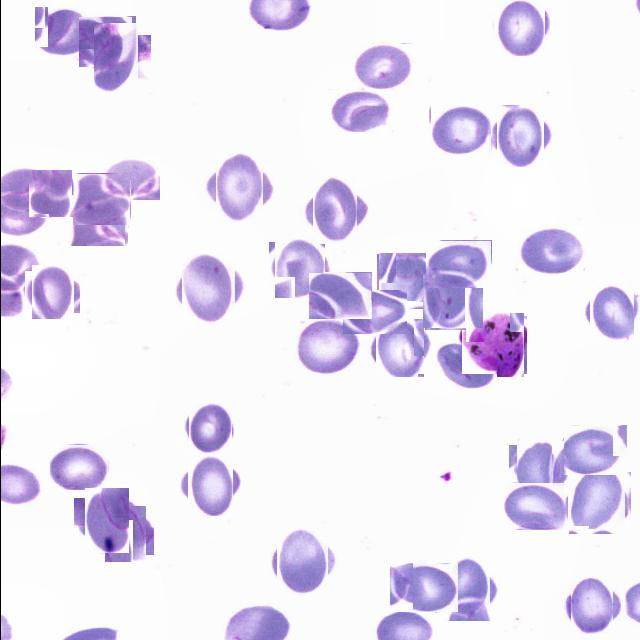difficult: (463, 314, 524, 376)
red blood cell: (566, 469, 628, 532), (176, 258, 239, 320), (294, 318, 359, 376), (208, 158, 268, 218), (272, 532, 332, 592), (389, 562, 458, 612), (558, 425, 626, 475), (423, 271, 481, 329), (87, 29, 144, 86), (517, 227, 584, 275), (428, 104, 491, 155), (425, 240, 491, 288), (271, 239, 327, 295), (438, 562, 494, 618), (306, 182, 362, 238), (512, 442, 568, 498), (78, 492, 134, 548), (503, 482, 568, 530), (433, 342, 496, 391), (377, 253, 432, 308), (492, 108, 547, 163), (72, 173, 130, 225), (69, 195, 128, 246), (491, 0, 547, 53), (308, 272, 371, 319), (78, 16, 135, 67), (34, 6, 92, 56), (352, 43, 413, 90), (182, 459, 236, 512), (342, 290, 406, 334), (372, 322, 426, 374), (328, 89, 393, 132), (49, 444, 108, 491), (586, 286, 636, 338), (101, 156, 159, 200), (566, 582, 616, 632), (100, 509, 150, 558), (27, 268, 76, 316), (185, 404, 233, 452), (27, 170, 72, 217)
